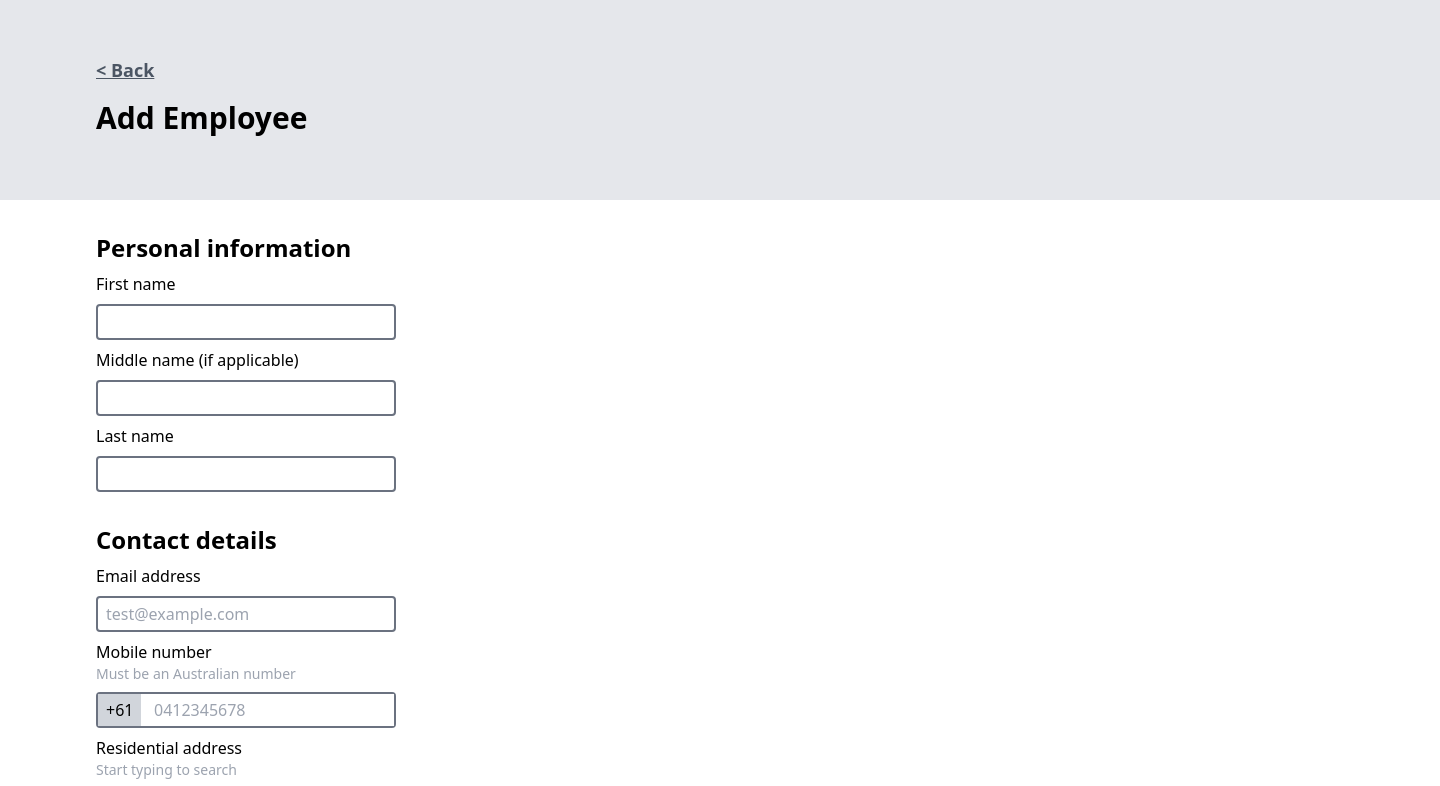
EmployeeAdd Component Tests › should display notify user about maxium digits of 10 when more than 10 digits are used in the phone input on form submit
The width and height of the screenshot is (1440, 786).
In the field with test id "phone": (246, 710) [98, 694, 394, 726], type "0123456789014"
(page scrolled)
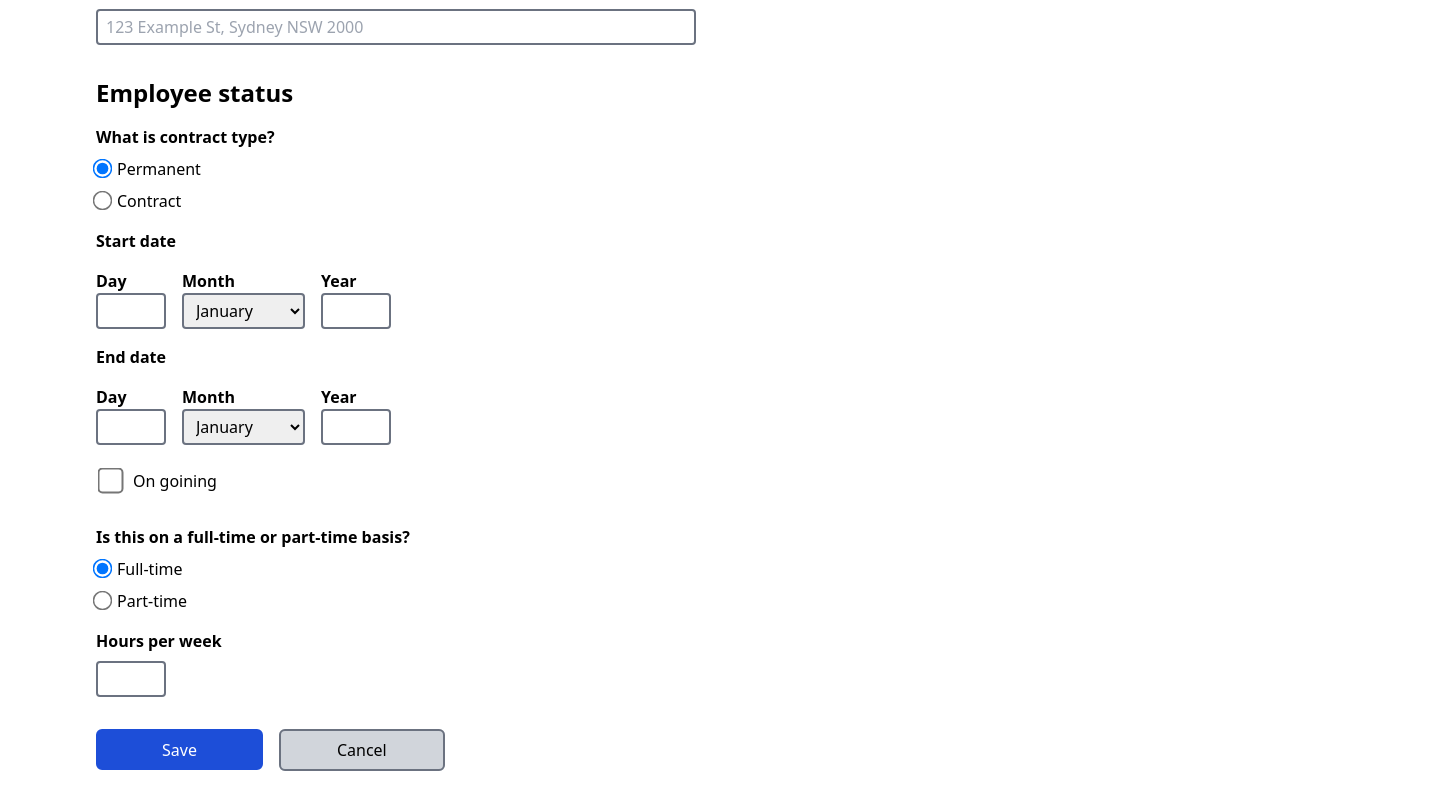
Click the button "Save": (179, 750) [96, 729, 263, 770]
(page scrolled)
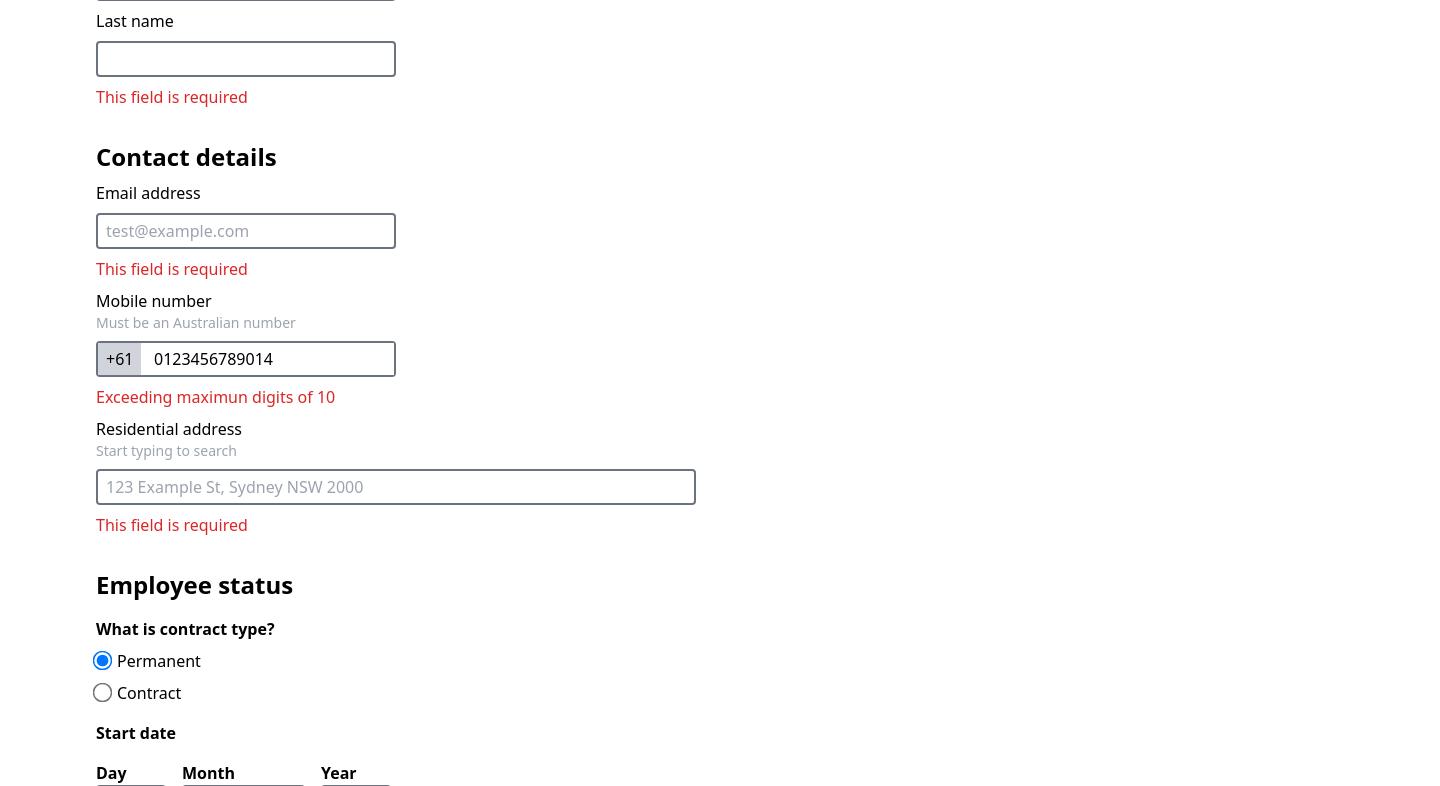
Expected: the text "Exceeding maximun digits of 10" is shown, [96, 386, 335, 408]
